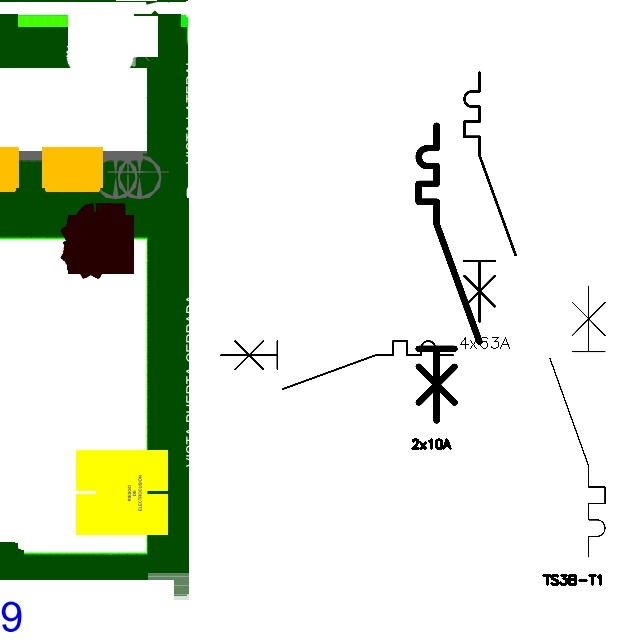interruptor_termomagnetico: (411, 118, 487, 428), (543, 279, 612, 564), (458, 66, 522, 328), (215, 335, 459, 395)
